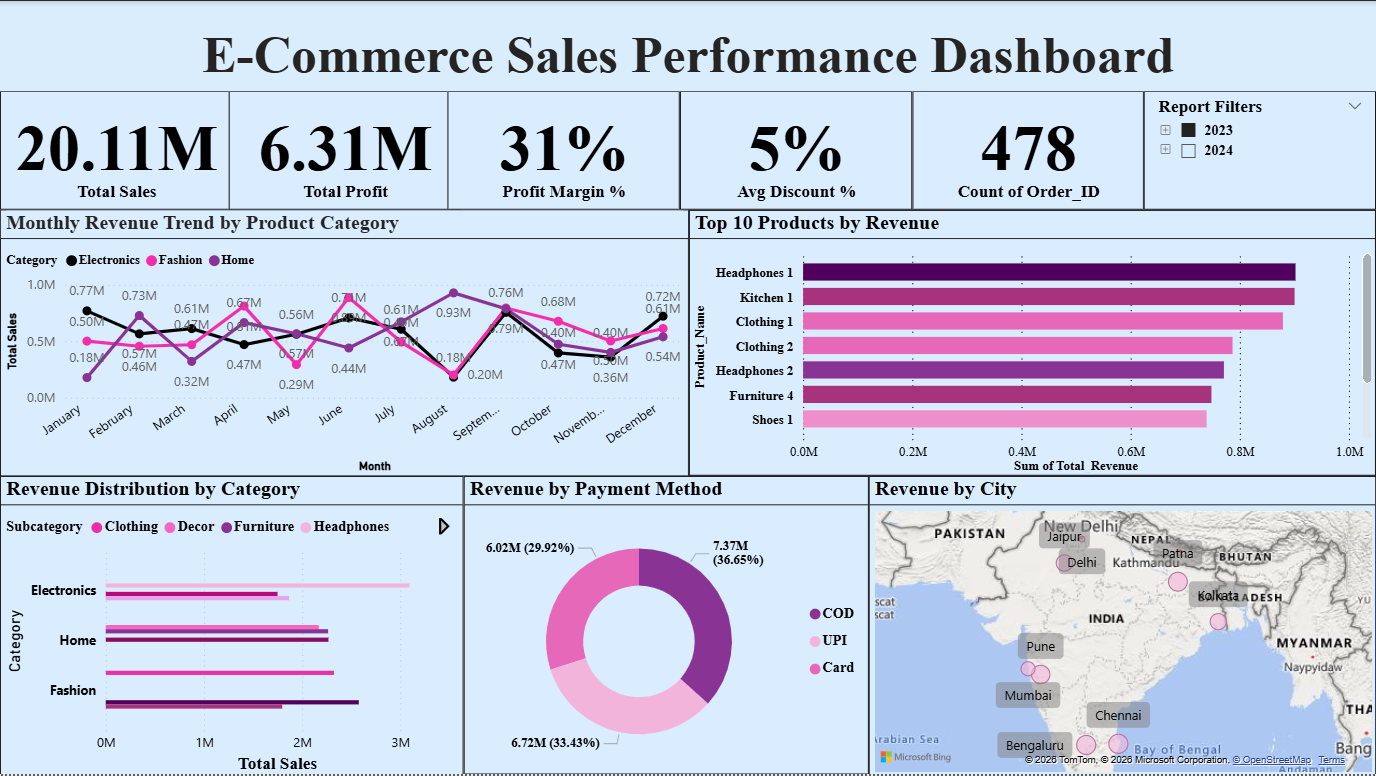

This screenshot's page, from the dashboard's own definition file:
{"tool":"powerbi","page":{"name":"Page 1","canvas":[1280,720],"ordinal":0},"visuals":[{"type":"card","title":"Total Revenue Generated","fields":{"Values":["Sheet1.Total Sales"]},"box":[0,83.7,216.3,110.5],"z":0},{"type":"card","fields":{"Values":["Sheet1.Total Profit"]},"box":[212.8,83.7,216.3,110.5],"z":1000},{"type":"card","fields":{"Values":["Sheet1.Profit Margin %"]},"box":[416.3,83.7,216.3,110.5],"z":2000},{"type":"card","fields":{"Values":["Sheet1.Avg Discount %"]},"box":[632.6,83.7,216.3,110.5],"z":3000},{"type":"card","fields":{"Values":["CountNonNull(Sheet1.Order_ID)"]},"box":[848.8,83.7,215.1,110.5],"z":4000},{"type":"lineChart","title":"Monthly Revenue Trend by Product Category","fields":{"Y":["Sheet1.Total Sales"],"Series":["Sheet1.Category"],"Category":["Sheet1.Order_Date.Variation.Date Hierarchy.Month"]},"box":[0,194.2,640.7,247.7],"z":5000},{"type":"clusteredBarChart","title":"Revenue Distribution by Category","fields":{"Category":["Sheet1.Category"],"Y":["Sheet1.Total Sales"],"Series":["Sheet1.Subcategory"]},"box":[0,441.9,431.4,279.1],"z":6000},{"type":"clusteredBarChart","title":"Top 10 Products by Revenue","fields":{"Category":["Sheet1.Product_Name"],"Y":["Sum(Sheet1.Total_Revenue)"]},"box":[640.7,194.2,639.5,247.7],"z":7000},{"type":"map","title":"Revenue by City","fields":{"Category":["Sheet1.City"],"Size":["Sheet1.Total Sales"]},"box":[808.1,441.9,472.1,279.1],"z":8000},{"type":"donutChart","title":"Revenue by Payment Method","fields":{"Category":["Sheet1.Payment_Method"],"Y":["Sheet1.Total Sales"]},"box":[431.4,441.9,376.7,277.9],"z":9000},{"type":"slicer","fields":{"Values":["Sheet1.Year","Sheet1.Category","Sheet1.Region","Sheet1.City"]},"box":[1064,83.7,216.3,110.5],"z":10000},{"type":"textbox","box":[0,0,1280.2,83.7],"z":10001}]}

Visuals, with their boxes in screenshot pixels (x1, y1, x2, y2), scaled from the page's 1280x720 canvas onto the 1376x776 screenshot:
"Total Revenue Generated" card: bbox=[0, 90, 233, 209]
card - Sheet1.Total Profit: bbox=[229, 90, 461, 209]
card - Sheet1.Profit Margin %: bbox=[448, 90, 680, 209]
card - Sheet1.Avg Discount %: bbox=[680, 90, 913, 209]
card - CountNonNull(Sheet1.Order_ID): bbox=[912, 90, 1144, 209]
"Monthly Revenue Trend by Product Category" lineChart: bbox=[0, 209, 689, 476]
"Revenue Distribution by Category" clusteredBarChart: bbox=[0, 476, 464, 775]
"Top 10 Products by Revenue" clusteredBarChart: bbox=[689, 209, 1375, 476]
"Revenue by City" map: bbox=[869, 476, 1375, 775]
"Revenue by Payment Method" donutChart: bbox=[464, 476, 869, 775]
slicer - Sheet1.Year x Sheet1.Category: bbox=[1144, 90, 1375, 209]
textbox: bbox=[0, 0, 1375, 90]
